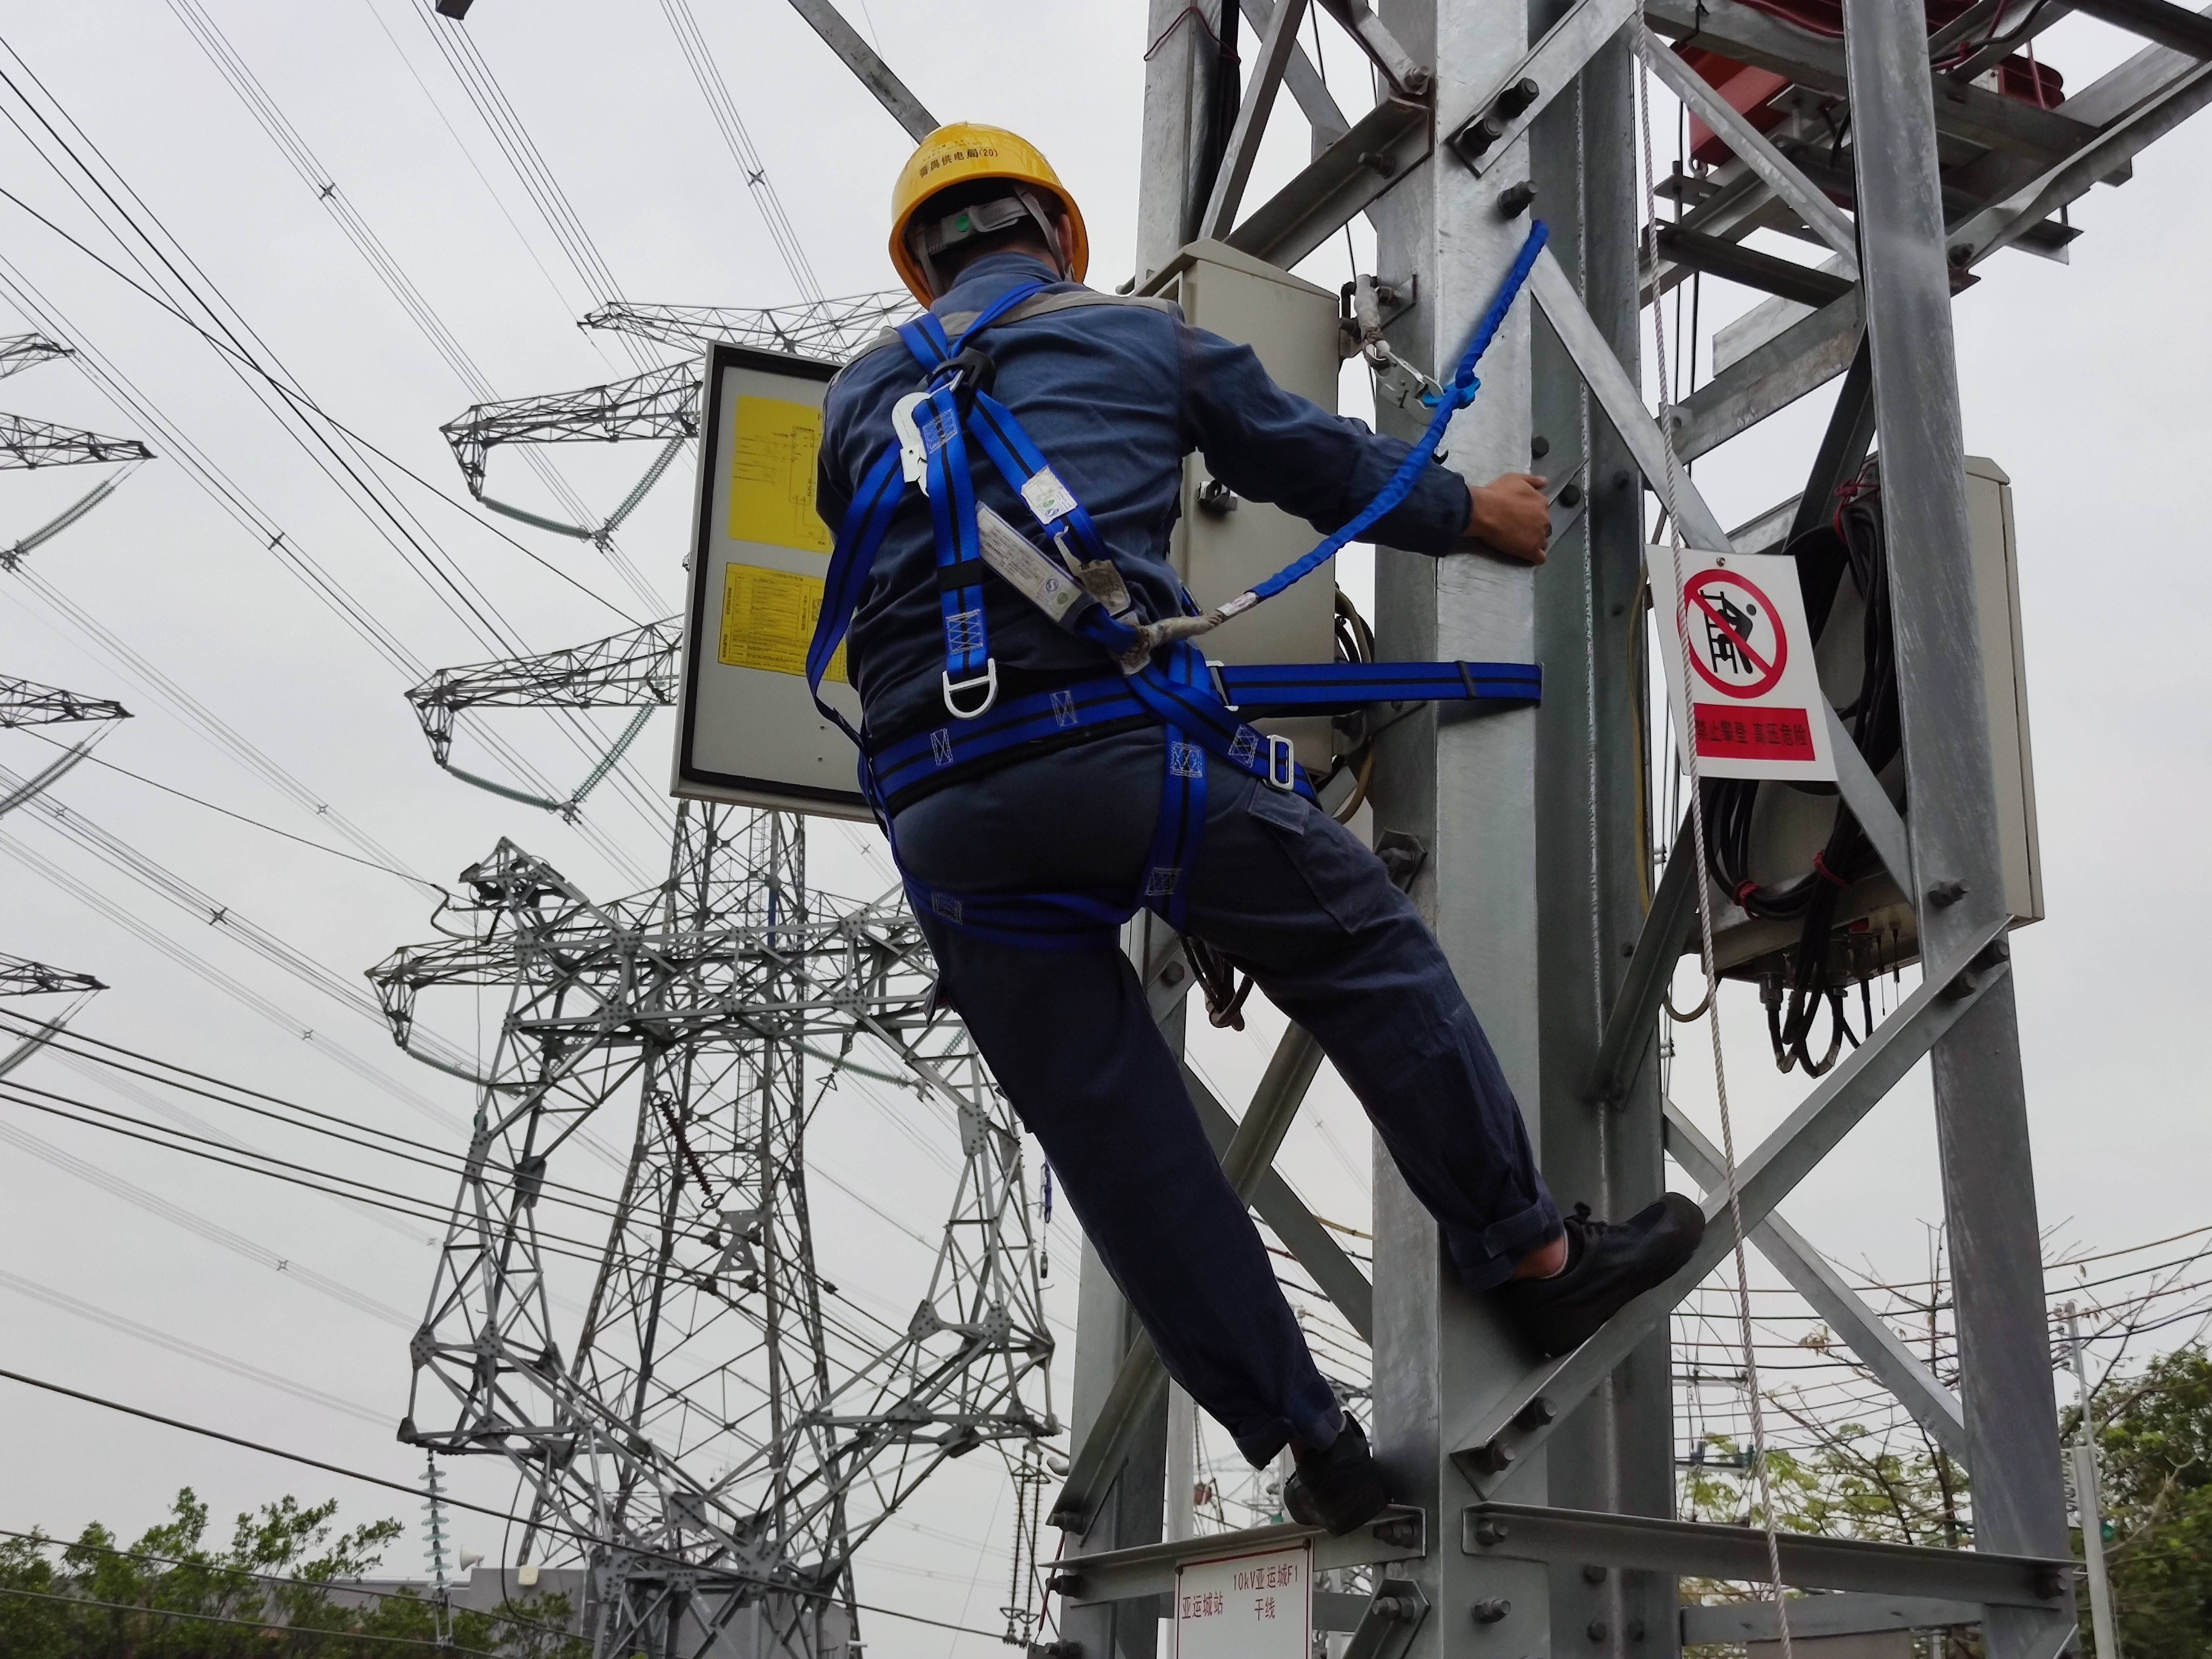downsuit: (874, 741, 1571, 1476)
upsuit: (813, 254, 1467, 732)
